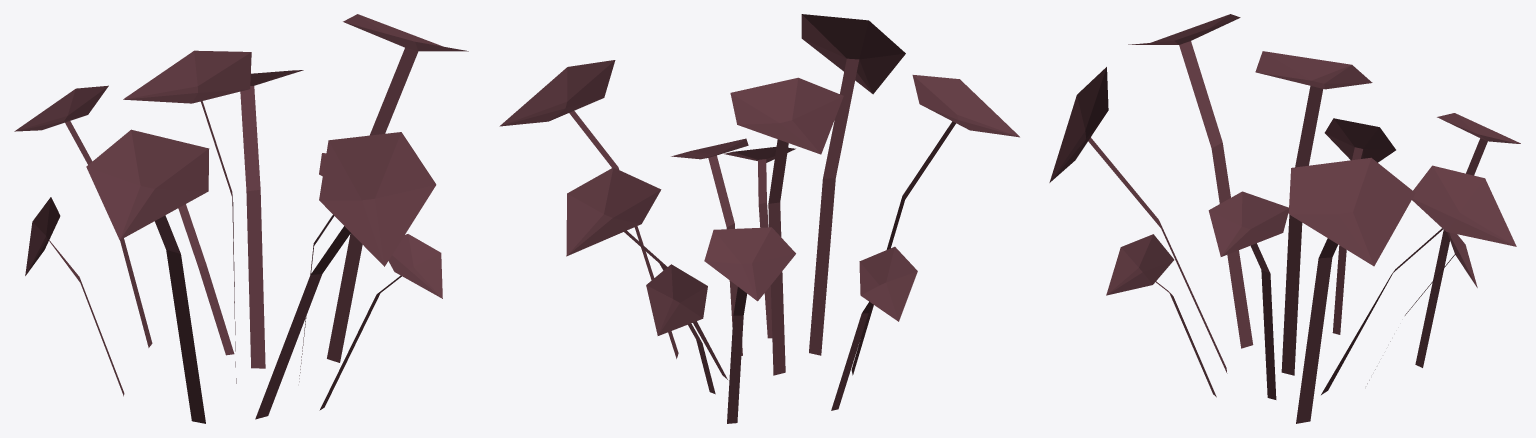
Rendered from plant-pilea.fbx.
3 renders of one model, left to right at view 1: azimuth 30°, elevation 25°; view 2: azimuth 150°, elevation 25°; view 3: azimuth 270°, elevation 25°, orthographic. The views are drawn at different scales.
Visible parts, largest first — view 1: plant-pilea; view 2: plant-pilea; view 3: plant-pilea.
Boxes of the visible parts, x1=… form: plant-pilea: x1=14, y1=14, x2=468, y2=423; plant-pilea: x1=499, y1=14, x2=1019, y2=423; plant-pilea: x1=1049, y1=14, x2=1520, y2=423.
Size of the model in its own units: 0.174 by 0.1174 by 0.1642.
